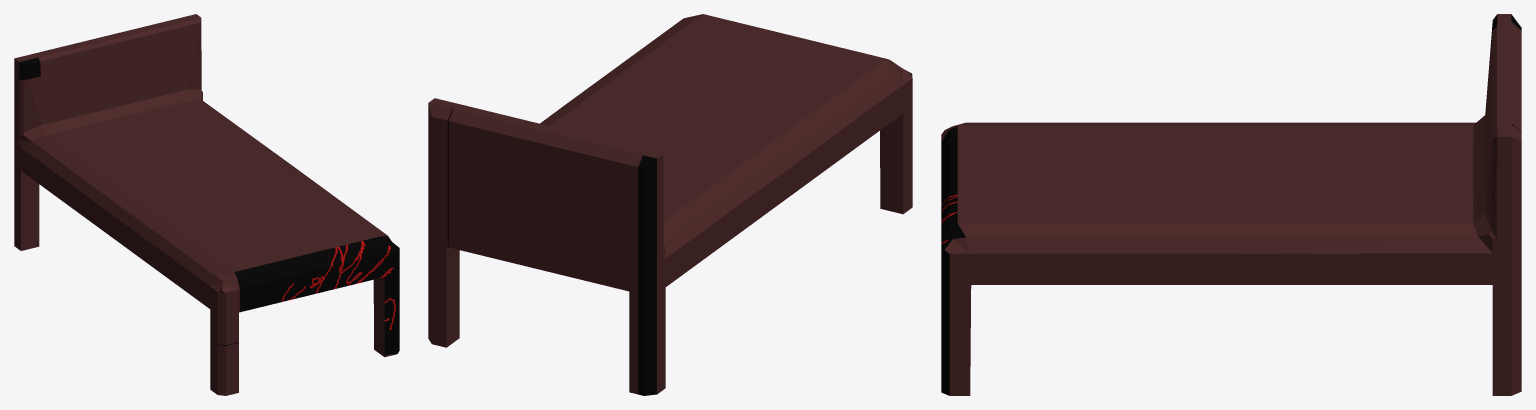
File: Bed.obj
The picture shows the model from 3 angles, left to right: view 1: azimuth 30°, elevation 25°; view 2: azimuth 150°, elevation 25°; view 3: azimuth 270°, elevation 25°; orthographic projection. The views are drawn at different scales.
Parts seen in each view (by area): view 1: pCube4; view 2: pCube4; view 3: pCube4.
Boxes of the visible parts, box(x1,y1,x2,y2) form: pCube4: box(14, 14, 399, 395); pCube4: box(428, 14, 912, 395); pCube4: box(941, 14, 1521, 395).
Size of the model in its own units: 1 by 0.9857 by 2.
1 material, 1 textured.
